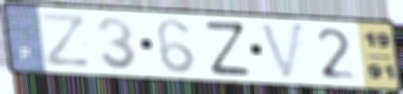2: (315, 26, 359, 83)
3: (93, 14, 140, 72)
6: (154, 16, 199, 76)
V: (257, 20, 307, 83)
Z: (37, 10, 94, 69), (201, 20, 254, 77)
